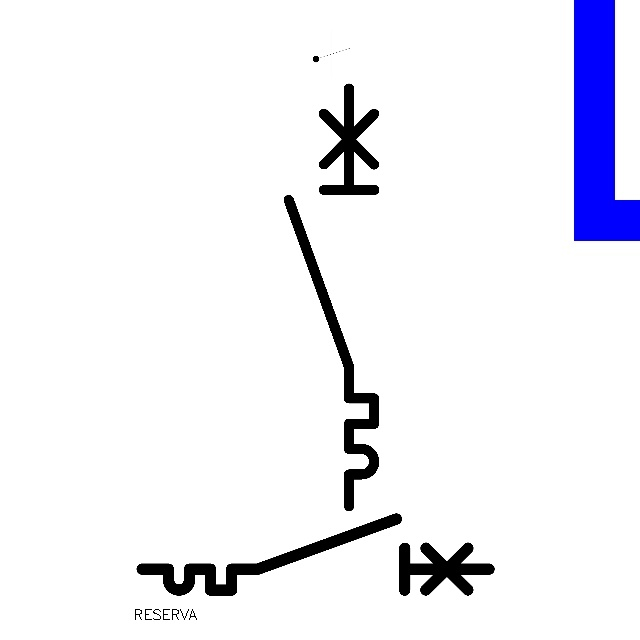interruptor_termomagnetico: (278, 77, 385, 516), (133, 510, 498, 599)
